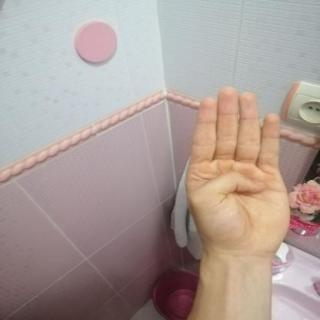KAAF: (178, 76, 304, 263)
